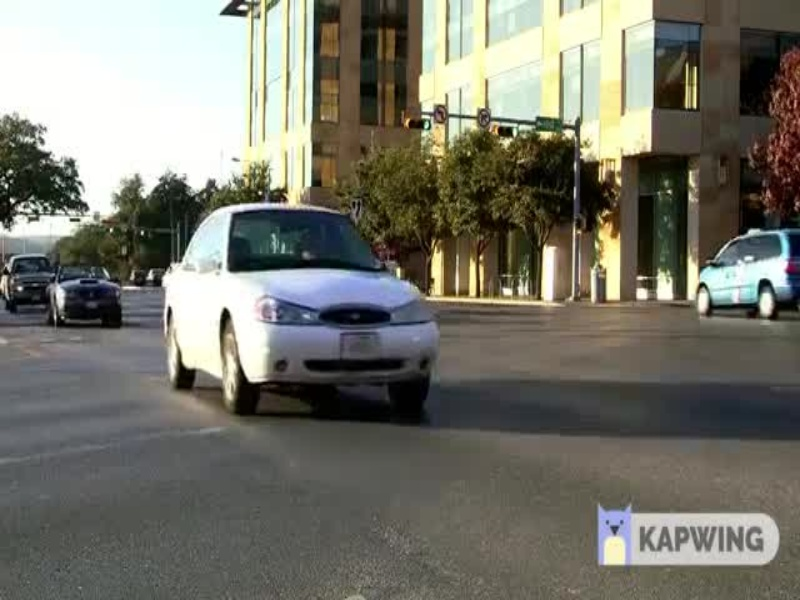car: (159, 199, 442, 439), (49, 266, 130, 337)
van: (685, 228, 800, 328)
